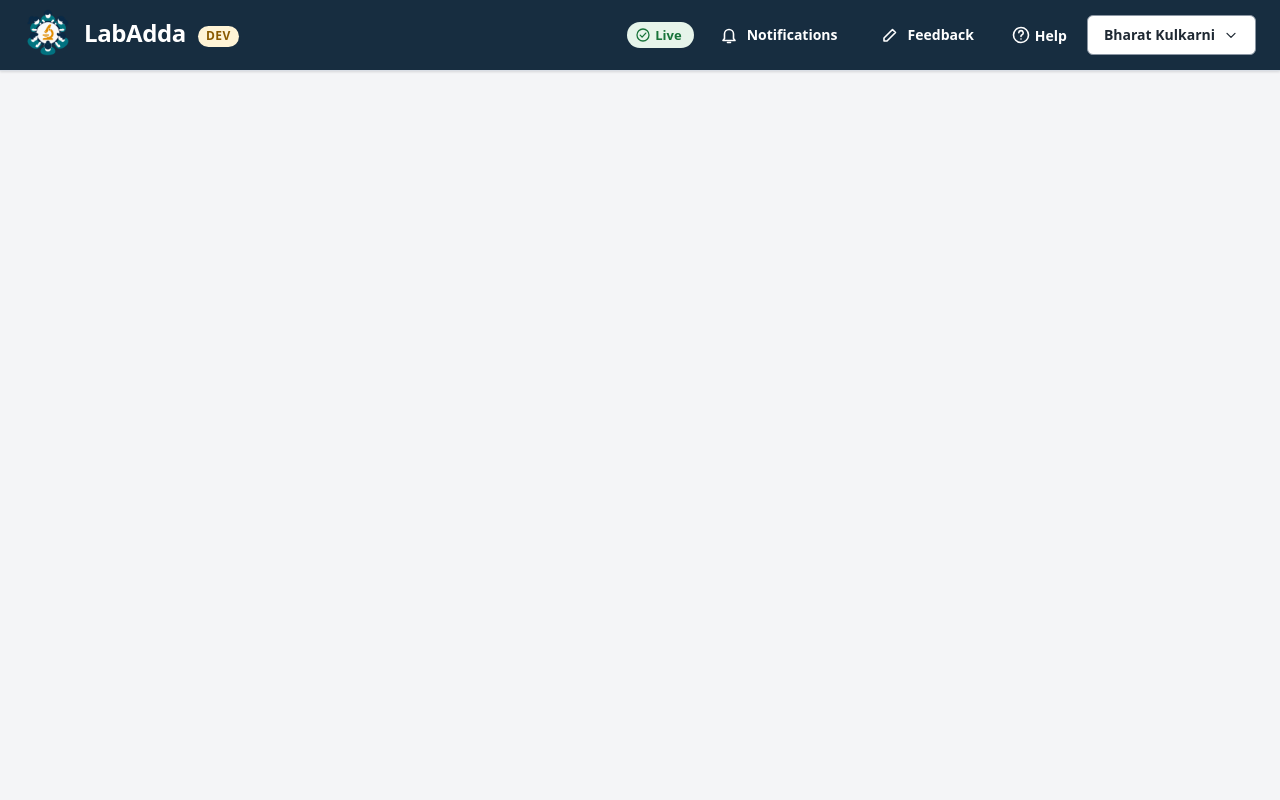
it: account menu theme choice › applies and remembers Dark, then returns to following the system
Later steps or results of the test are not shown.
What coordinates should you click on to do the following:
click the button with aria-label "Account menu for Bharat Kulkarni"
I would click on:
 (1172, 35)
Its box is [1087,15,1256,55].
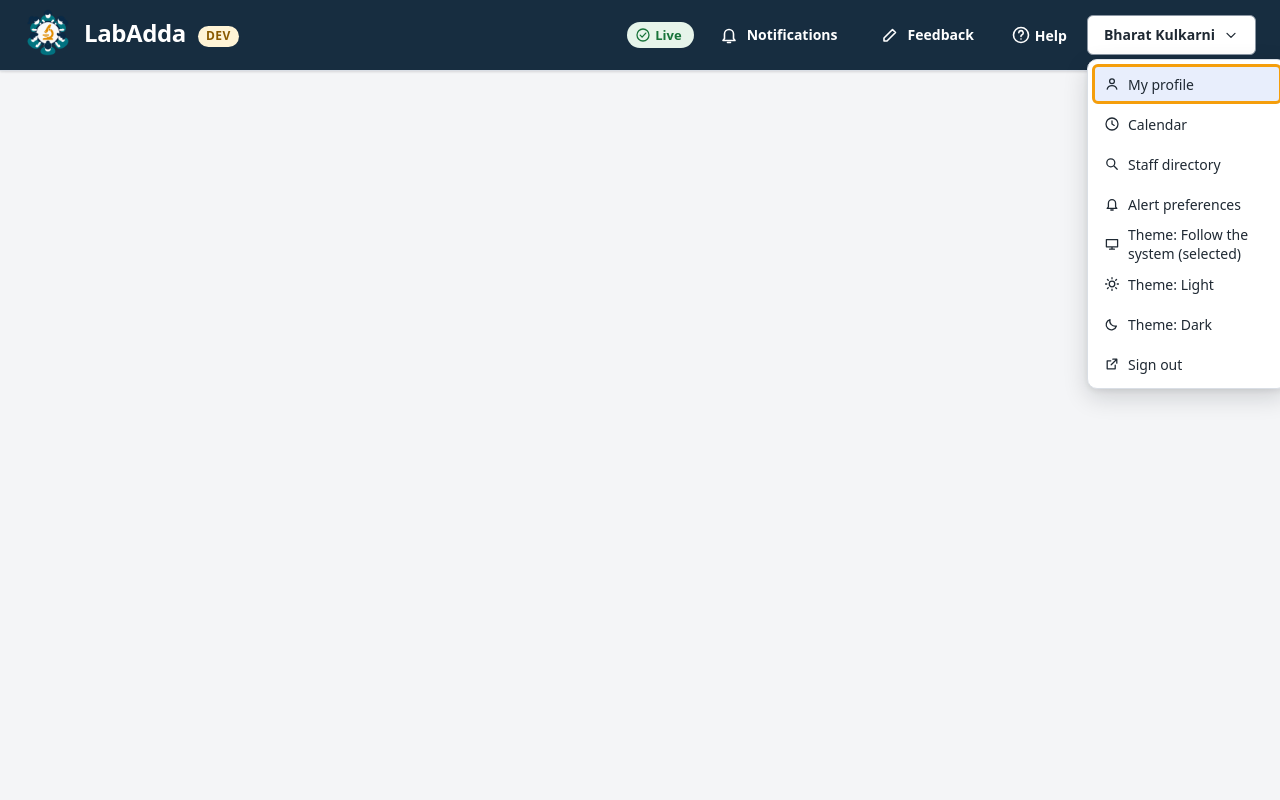
What coordinates should you click on to do the following:
click the menu item "Theme: Dark"
I would click on:
 (1158, 324)
Its box is [1104,314,1212,334].
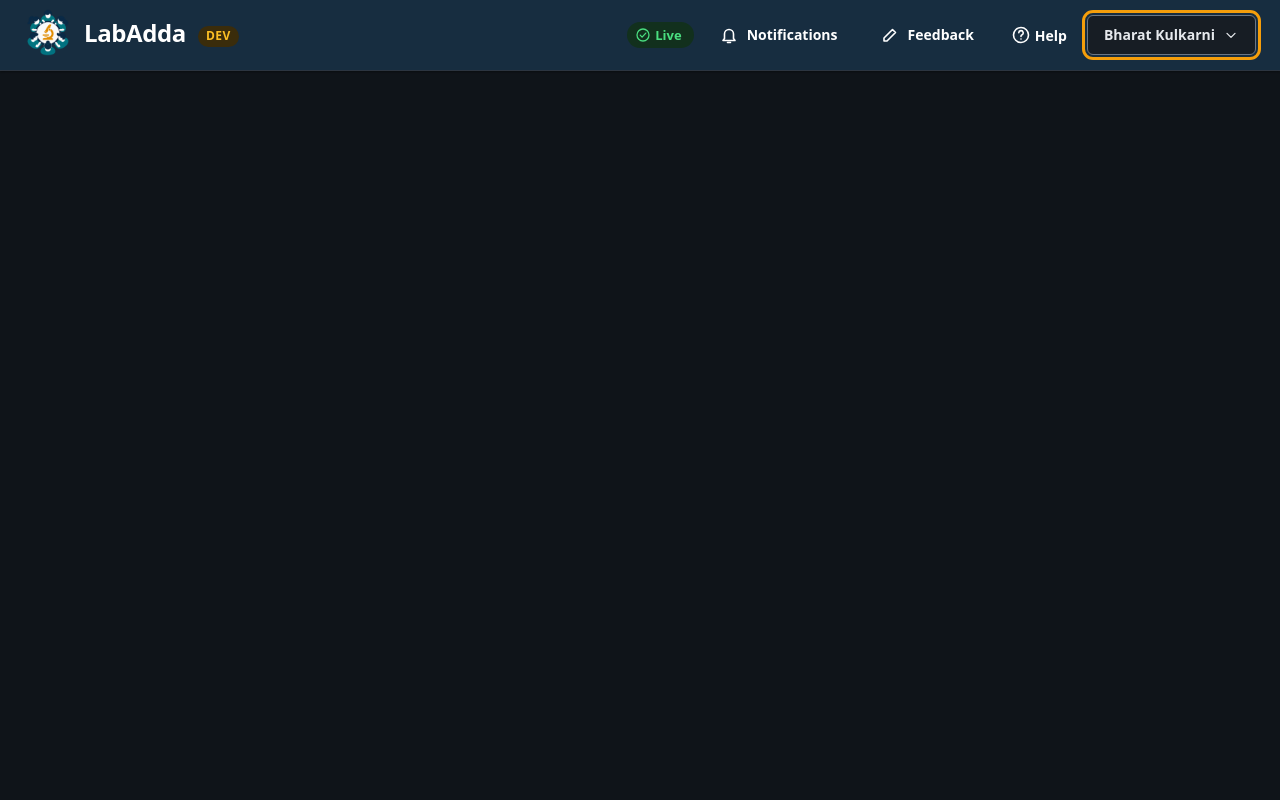
What coordinates should you click on to do the following:
click the button with aria-label "Account menu for Bharat Kulkarni"
I would click on:
 (1172, 35)
Its box is [1087,15,1256,55].
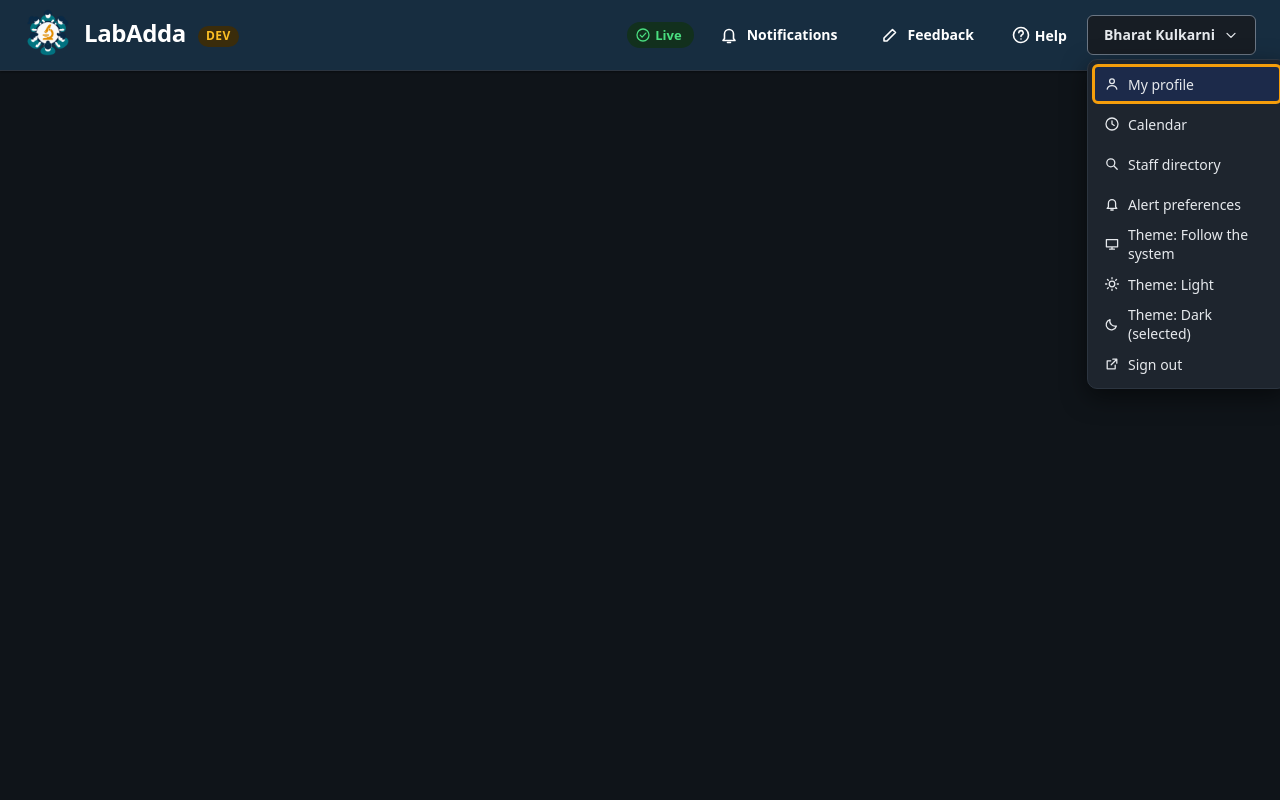
Expected: the menu item "Theme: Dark (selected)" is shown, [1104,305,1212,343]
